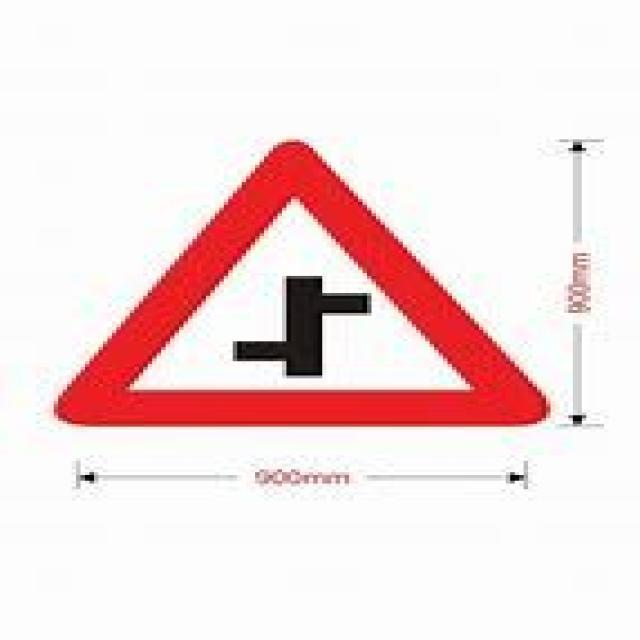staggered intersection: (43, 128, 566, 445)
